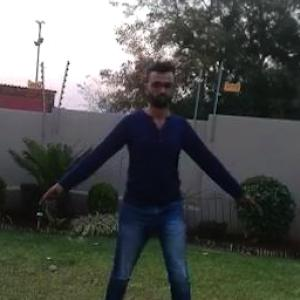land: (55, 68, 253, 299)
